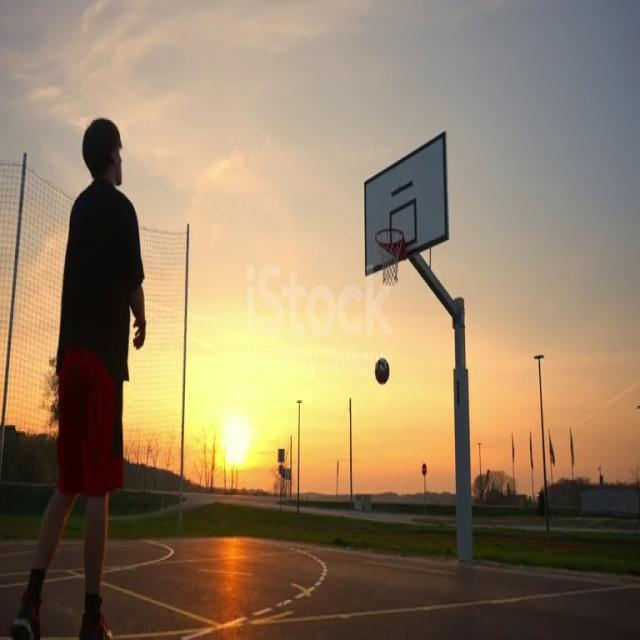ball: (375, 357, 390, 387)
